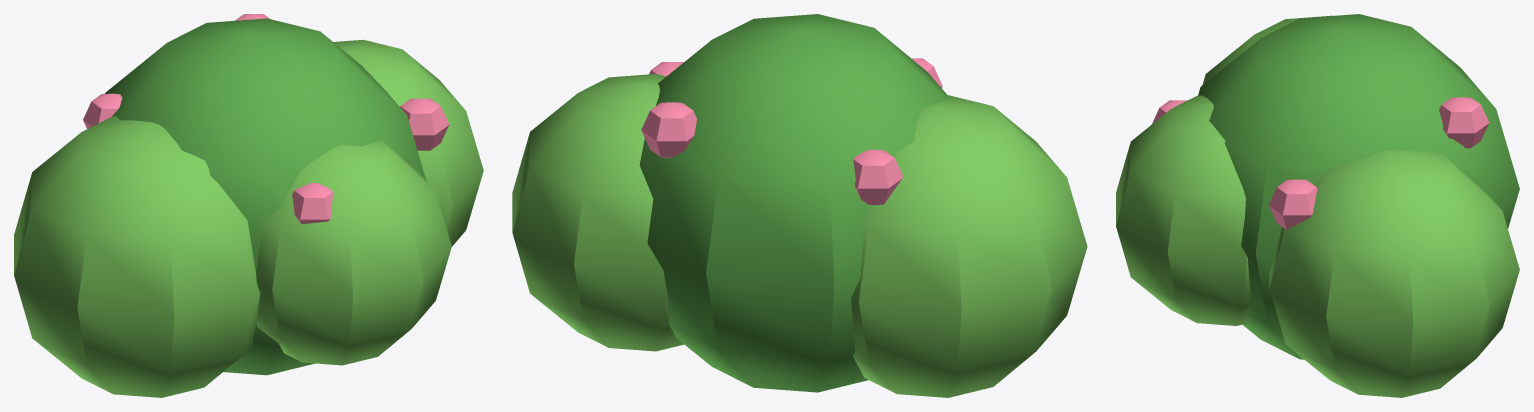
Rendered from bush.glb.
3 views of the same model, side by side, from view 1: azimuth 30°, elevation 25°; view 2: azimuth 150°, elevation 25°; view 3: azimuth 270°, elevation 25° (orthographic). The views are drawn at different scales.
Visible parts, largest first — view 1: bush; view 2: bush; view 3: bush.
Boxes of the visible parts, box(x1,y1,x2,y2) form: bush: box(14, 14, 483, 397); bush: box(512, 14, 1087, 397); bush: box(1116, 14, 1519, 397).
Size of the model in its own units: 2.28 by 1.5 by 1.72.
